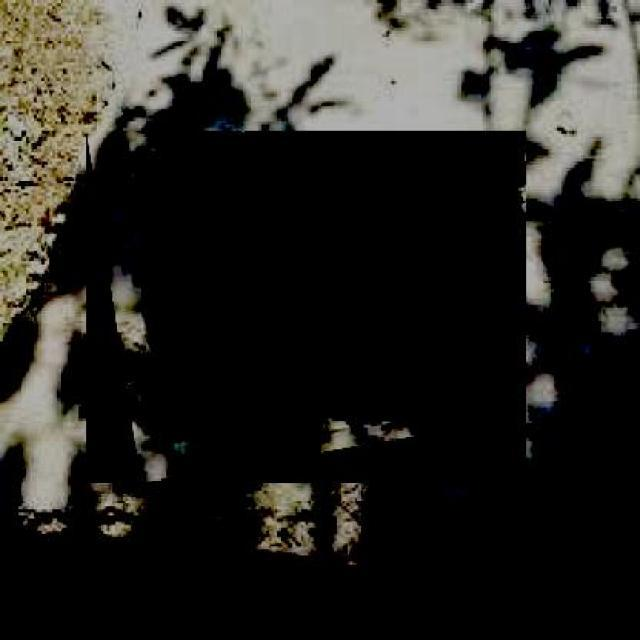Manhole: (86, 130, 526, 483)
